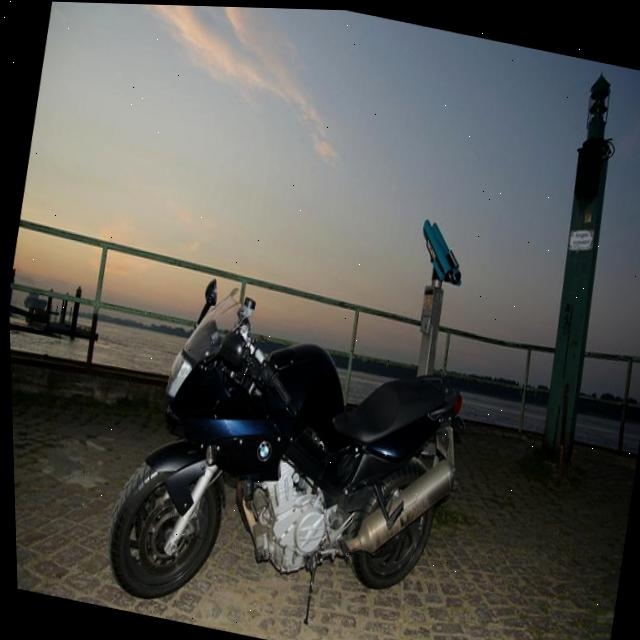motorcycle: (79, 254, 498, 640)
